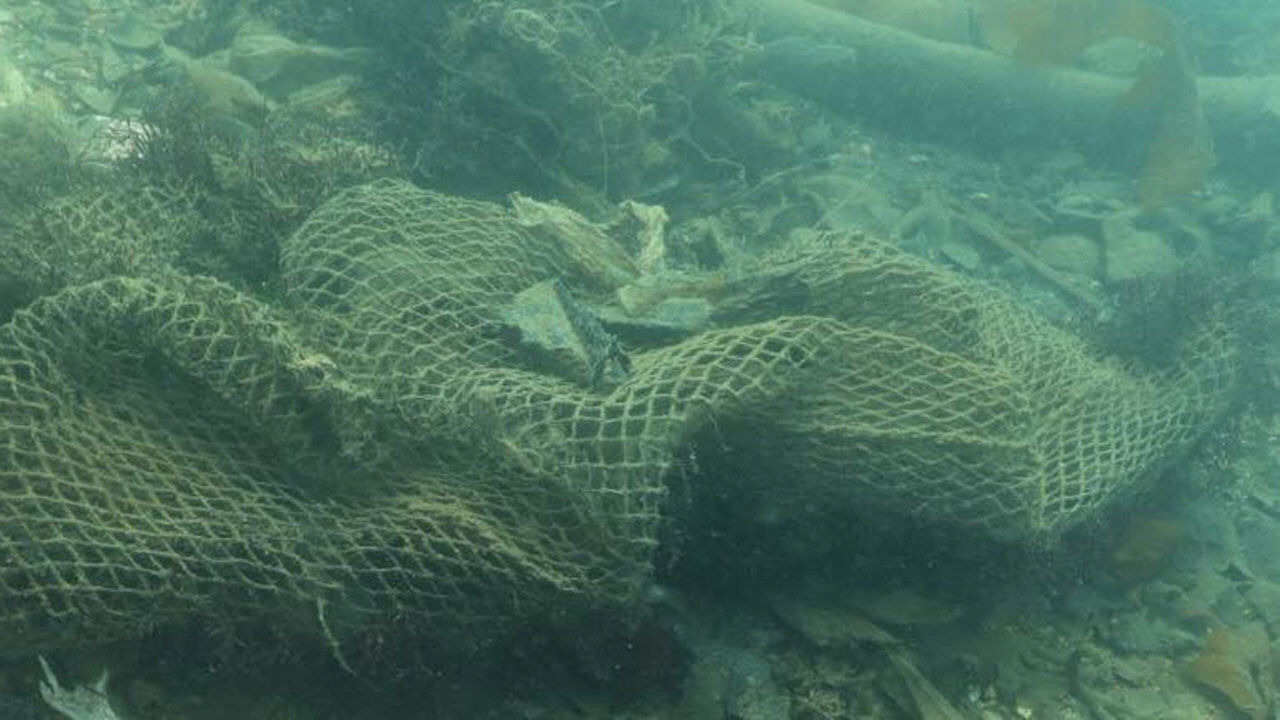fish net: (0, 177, 1238, 672)
